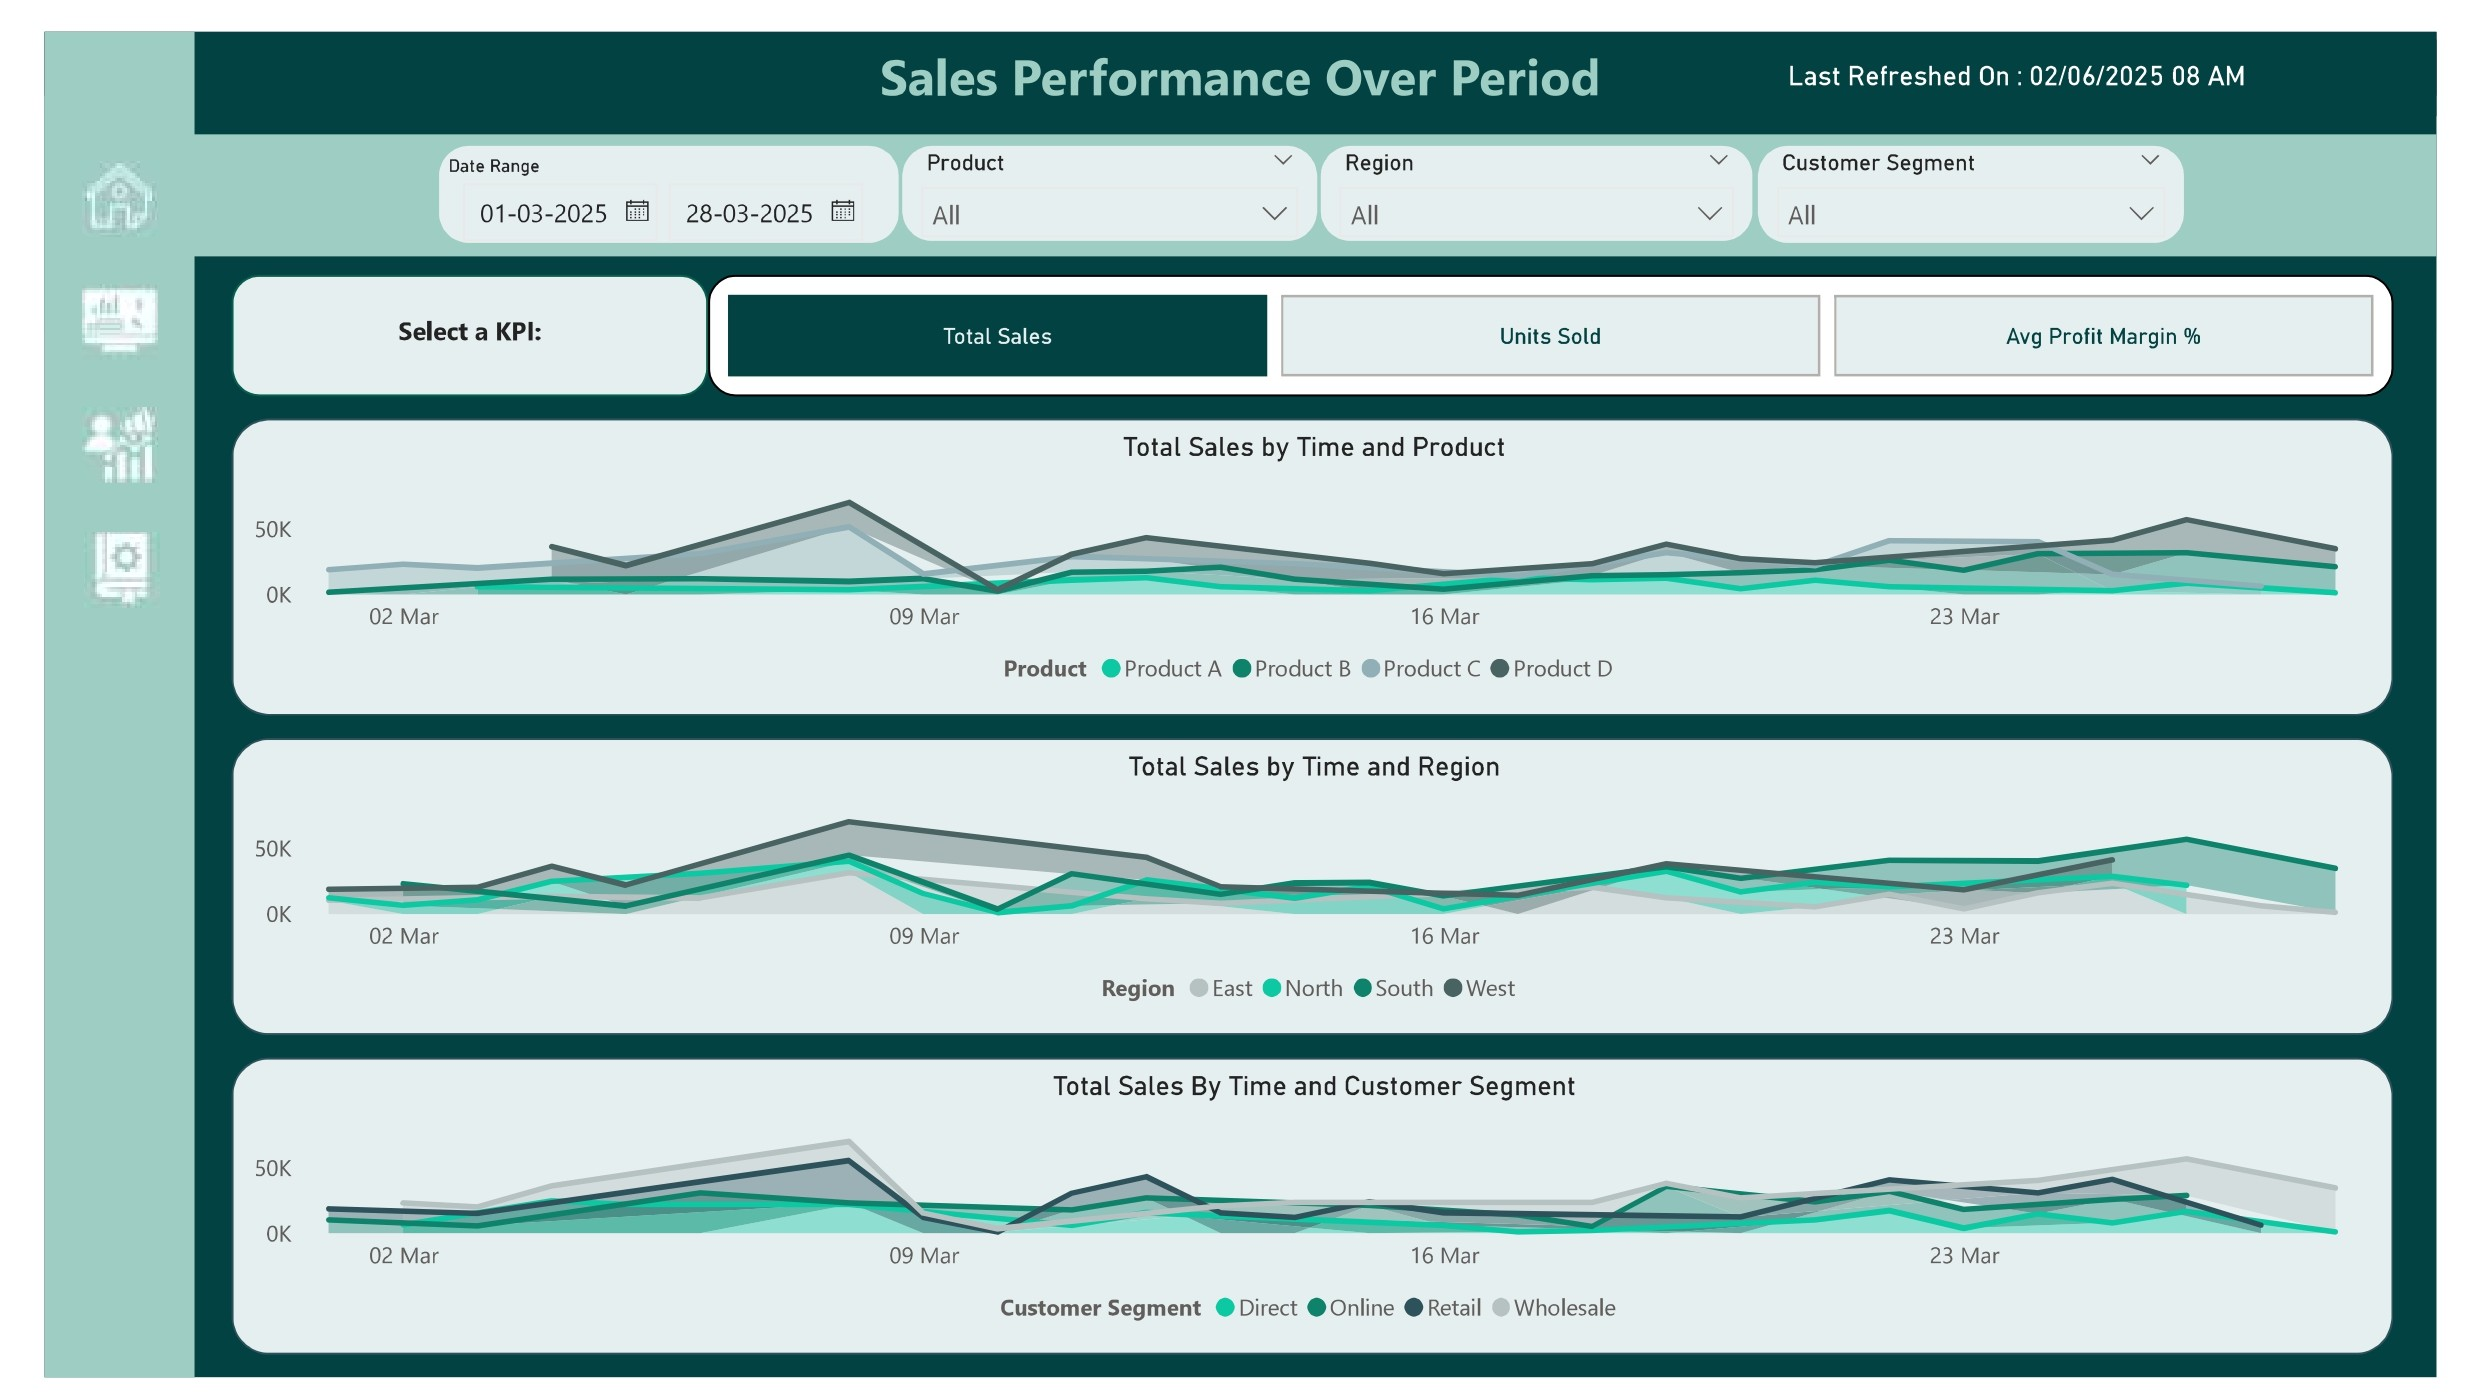

Layout of this report page (visuals, bound fields, positions):
{"tool":"powerbi","page":{"name":"Sales Performance Over Period","canvas":[1280,720],"ordinal":2},"visuals":[{"type":"textbox","box":[0,0,1280,50.7],"z":0},{"type":"shape","box":[78.3,55,1202,65],"z":0,"group":"g1"},{"type":"slicer","fields":{"Values":["Dim_Products.Product"]},"box":[457.9,60,224.5,53.4],"z":0,"group":"g2"},{"type":"shape","box":[0,0,79.8,1293.9],"z":1000},{"type":"slicer","title":"Region","fields":{"Values":["Dim_Regions.Region Name"]},"box":[682.4,60,232.9,53.4],"z":1000,"group":"g2"},{"type":"card","fields":{"Values":["Data Refresh.Last Refresh Date"]},"box":[830.8,3.6,449.2,41.5],"z":2000},{"type":"slicer","fields":{"Values":["Dim_Customer_Segments.Customer Segment"]},"box":[915.6,60.2,230.4,53.8],"z":2000,"group":"g2"},{"type":"slicer","title":"Date Range","fields":{"Values":["Dim_Date.Date"]},"box":[210,60.2,248,53.8],"z":3000,"group":"g2"},{"type":"actionButton","box":[15.7,62.9,50,51.4],"z":3000},{"type":"actionButton","box":[15.7,130,50,50],"z":4000},{"type":"actionButton","box":[15.7,195.7,50,50],"z":5000},{"type":"actionButton","box":[17.1,262.9,50,50],"z":6000},{"type":"textbox","box":[100.4,130,254.5,65.5],"z":7000},{"type":"advancedSlicerVisual","fields":{"Values":["Selected Metrics.Selected Metrics"]},"box":[354.9,130,901.8,65.5],"z":8000},{"type":"stackedAreaChart","fields":{"Category":["Dim_Date.Date.Variation.Date Hierarchy.Year","Dim_Date.Date.Variation.Date Hierarchy.Quarter","Dim_Date.Date.Variation.Date Hierarchy.Month","Dim_Date.Date.Variation.Date Hierarchy.Day"],"Y":["Selected Metrics.Measure Select"],"Series":["Dim_Regions.Region"]},"box":[99.6,377.9,1157.4,159.4],"z":9000},{"type":"stackedAreaChart","fields":{"Category":["Dim_Date.Date.Variation.Date Hierarchy.Year","Dim_Date.Date.Variation.Date Hierarchy.Quarter","Dim_Date.Date.Variation.Date Hierarchy.Month","Dim_Date.Date.Variation.Date Hierarchy.Day"],"Y":["Selected Metrics.Measure Select"],"Series":["Dim_Customer_Segments.Customer Segment"]},"box":[99.9,548.8,1157.2,159.6],"z":10000},{"type":"stackedAreaChart","fields":{"Category":["Dim_Date.Date.Variation.Date Hierarchy.Year","Dim_Date.Date.Variation.Date Hierarchy.Quarter","Dim_Date.Date.Variation.Date Hierarchy.Month","Dim_Date.Date.Variation.Date Hierarchy.Day"],"Y":["Selected Metrics.Measure Select"],"Series":["Dim_Products.Product"]},"box":[99.6,207,1157.4,159.4],"z":11000},{"type":"group","id":"g1","title":"Group 2","box":[78.3,55,1202,65],"z":12000},{"type":"group","id":"g2","title":"Group 1","box":[210,60,936,54],"z":15000,"group":"g1"}]}

Visuals, with their boxes in screenshot pixels (x1, y1, x2, y2), scaled from the page's 1280x720 canvas onto the 2481x1396 screenshot:
textbox: <box>0,0,2480,98</box>
shape: <box>152,107,2480,233</box>
slicer - Dim_Products.Product: <box>888,116,1323,220</box>
shape: <box>0,0,155,1395</box>
"Region" slicer: <box>1323,116,1774,220</box>
card - Data Refresh.Last Refresh Date: <box>1610,7,2480,87</box>
slicer - Dim_Customer_Segments.Customer Segment: <box>1775,117,2221,221</box>
"Date Range" slicer: <box>407,117,888,221</box>
actionButton: <box>30,122,127,222</box>
actionButton: <box>30,252,127,349</box>
actionButton: <box>30,379,127,476</box>
actionButton: <box>33,510,130,607</box>
textbox: <box>195,252,688,379</box>
advancedSlicerVisual - Selected Metrics.Selected Metrics: <box>688,252,2436,379</box>
stackedAreaChart - Dim_Date.Date.Variation.Date Hierarchy.Year x Dim_Date.Date.Variation.Date Hierarchy.Quarter: <box>193,733,2436,1042</box>
stackedAreaChart - Dim_Date.Date.Variation.Date Hierarchy.Year x Dim_Date.Date.Variation.Date Hierarchy.Quarter: <box>194,1064,2437,1374</box>
stackedAreaChart - Dim_Date.Date.Variation.Date Hierarchy.Year x Dim_Date.Date.Variation.Date Hierarchy.Quarter: <box>193,401,2436,710</box>
"Group 2" group: <box>152,107,2480,233</box>
"Group 1" group: <box>407,116,2221,221</box>
